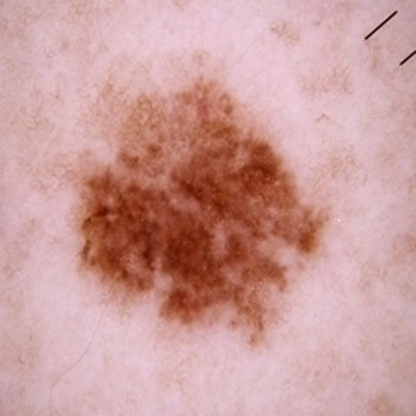malignant: (94, 106, 298, 319)
